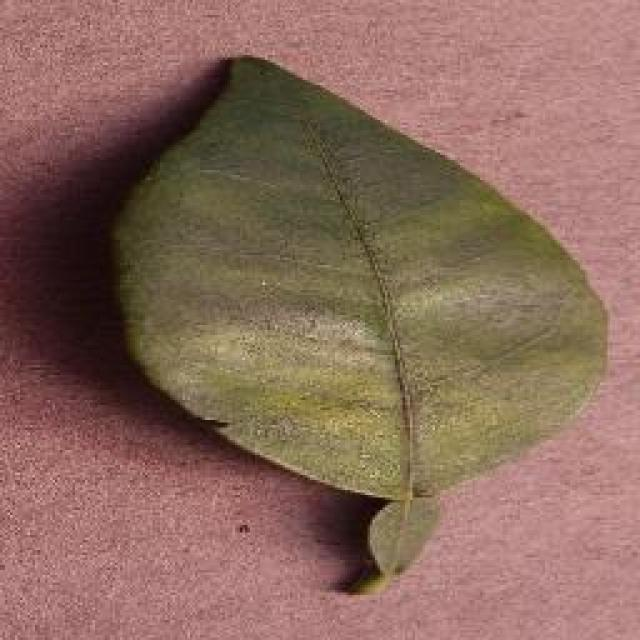Orange_Haunglongbing_Citrus_greening: (154, 126, 538, 452)
